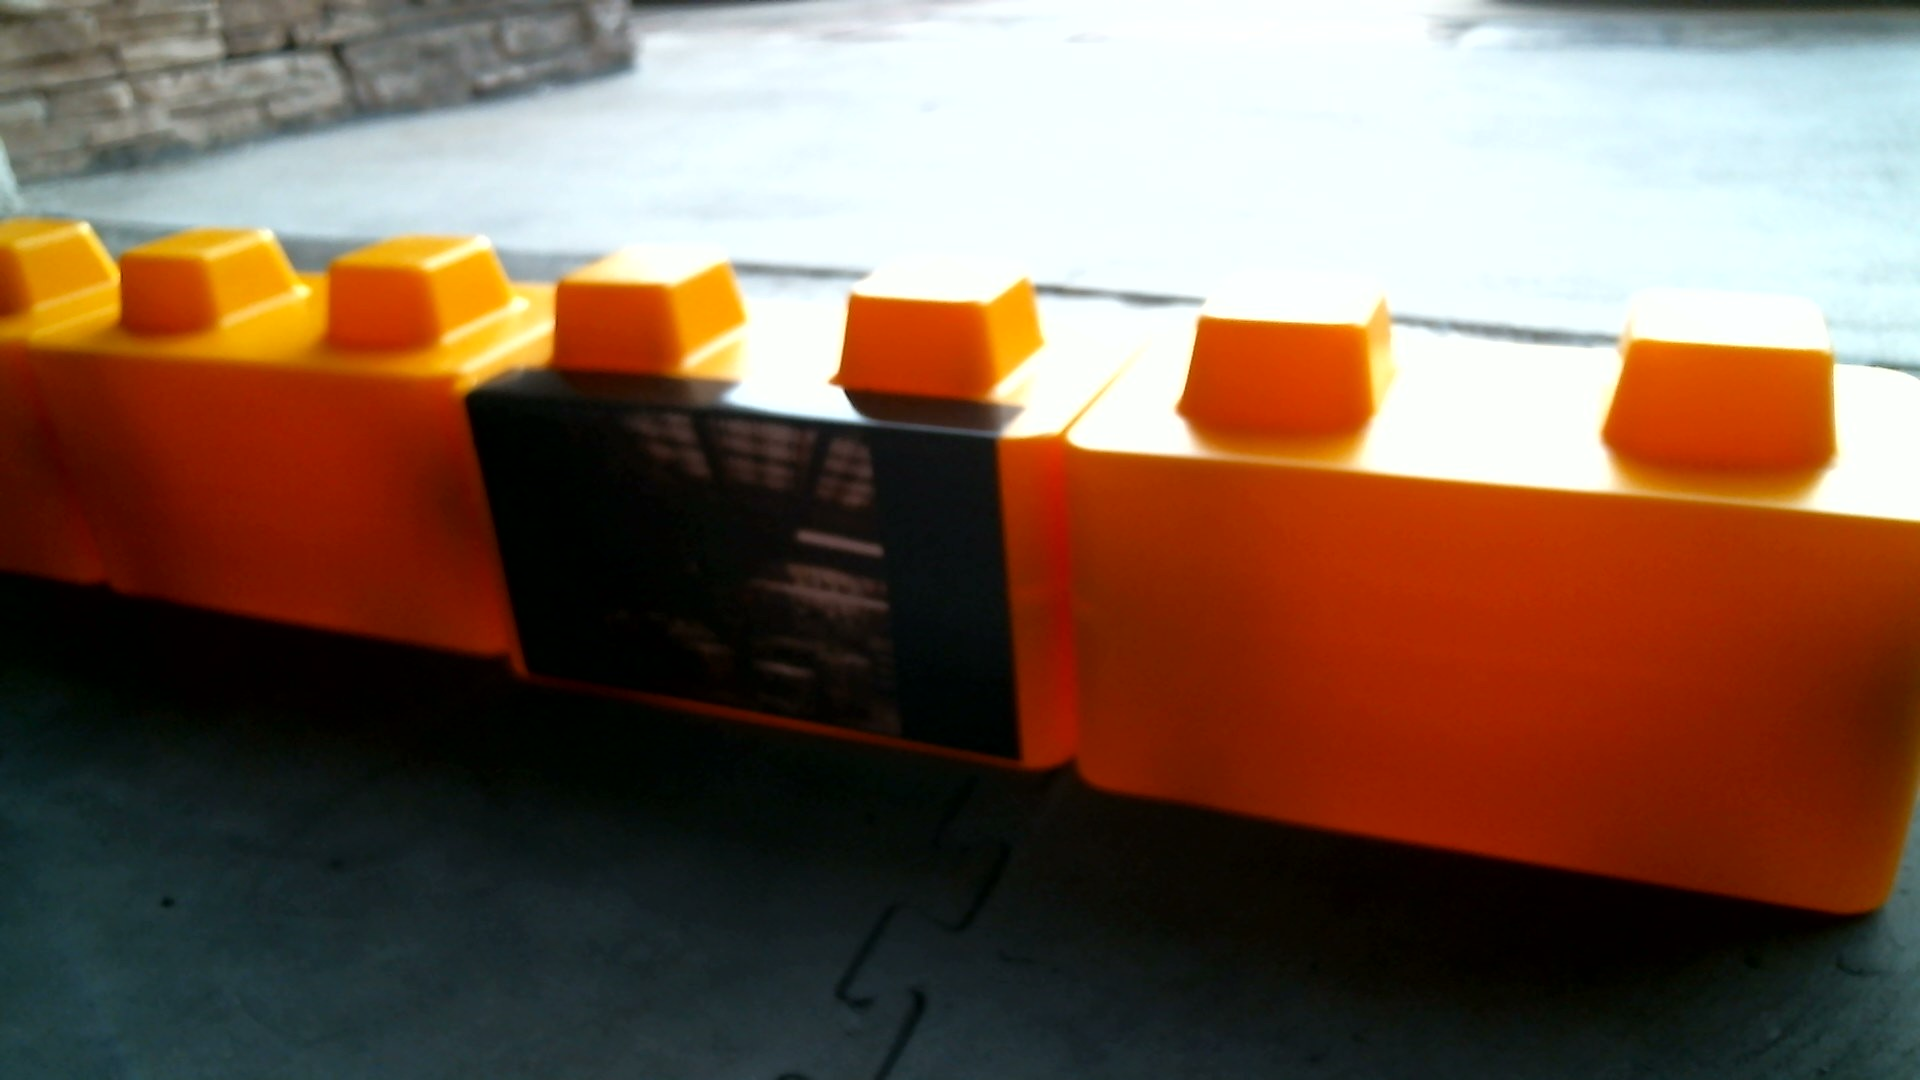center: (42, 185, 1919, 957)
